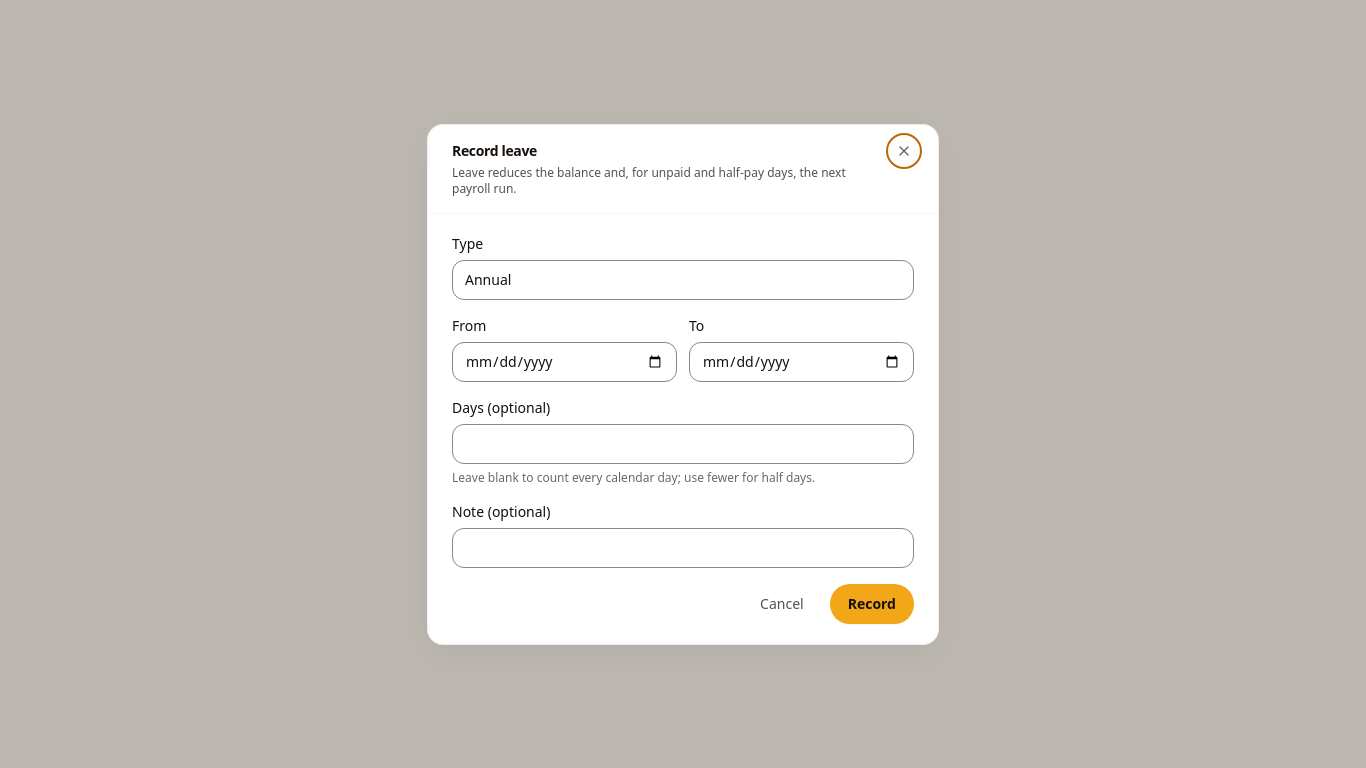
Test: LeaveRecordModal › shows the server reason inline and stays open
This screenshot has width=1366, height=768.
In the date field labelled "From": (564, 362) [452,342,677,382], type "2026-03-02"
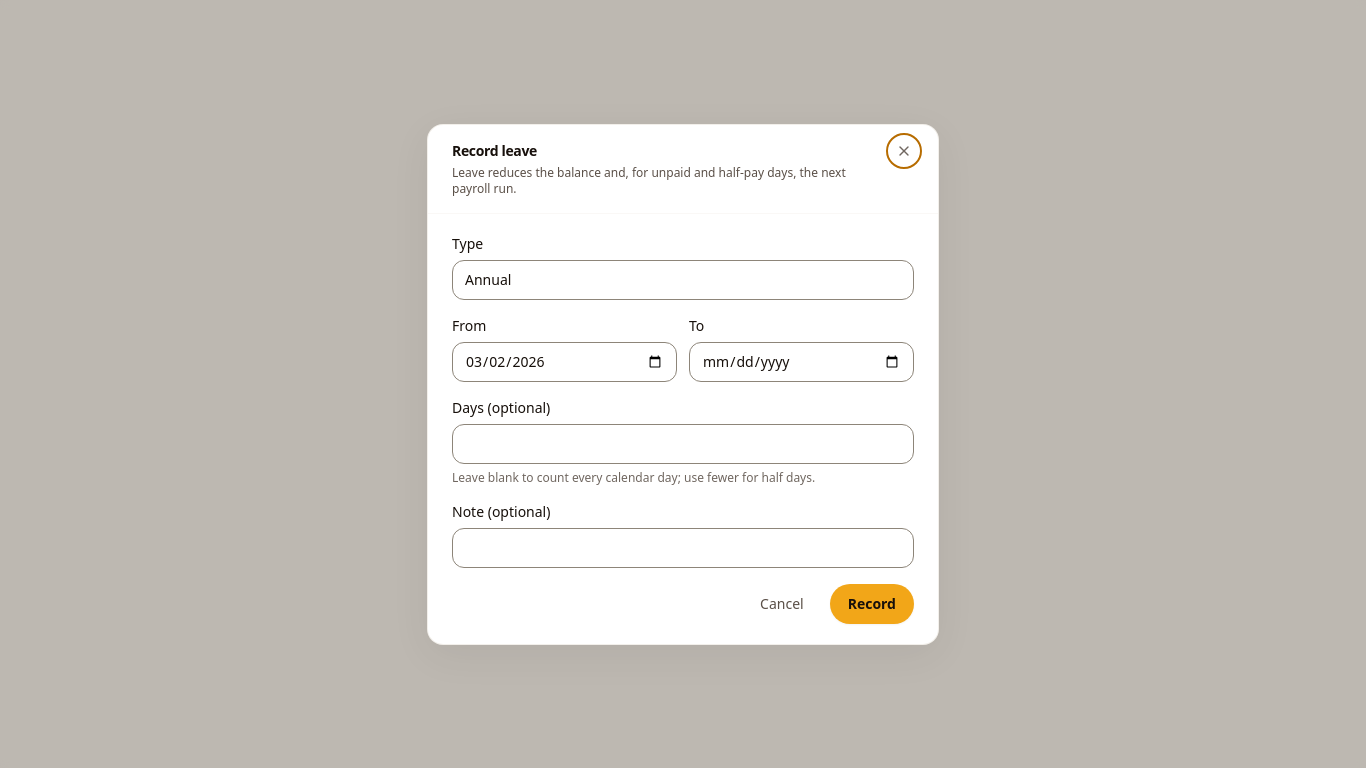
In the date field labelled "To": (802, 362) [689,342,914,382], type "2026-03-02"
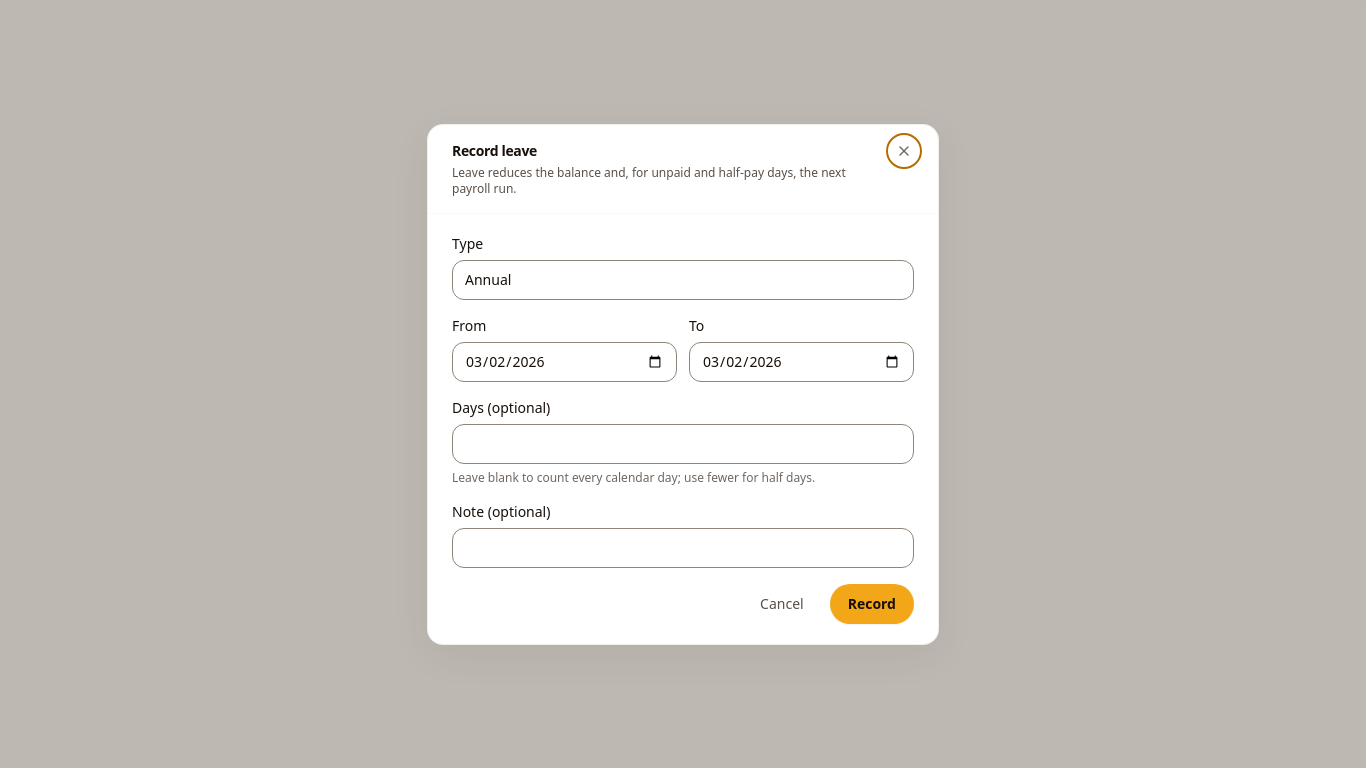
Submit the form with test id "leave-record-form", box [452,234,914,624]
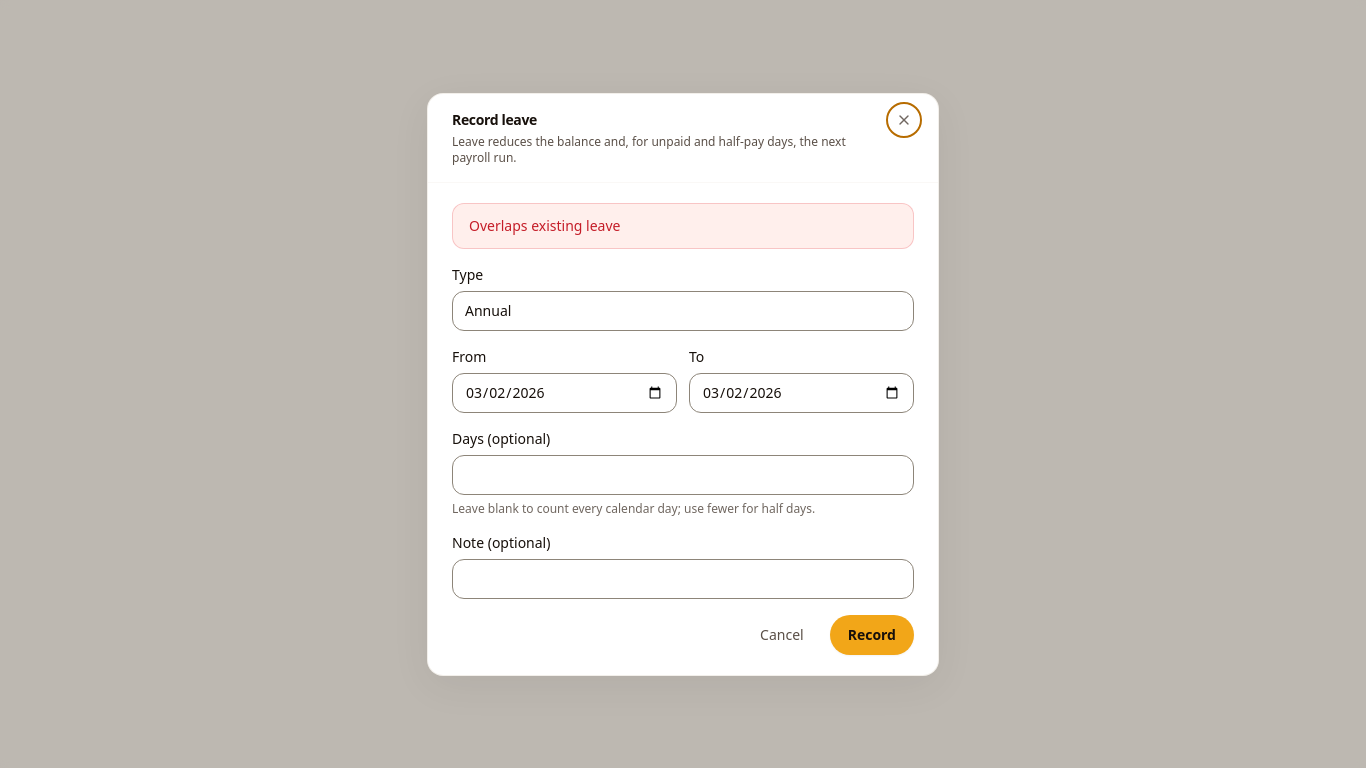
Now the element with test id "leave-server-error" reads "Overlaps existing leave", box [469,216,620,234]
